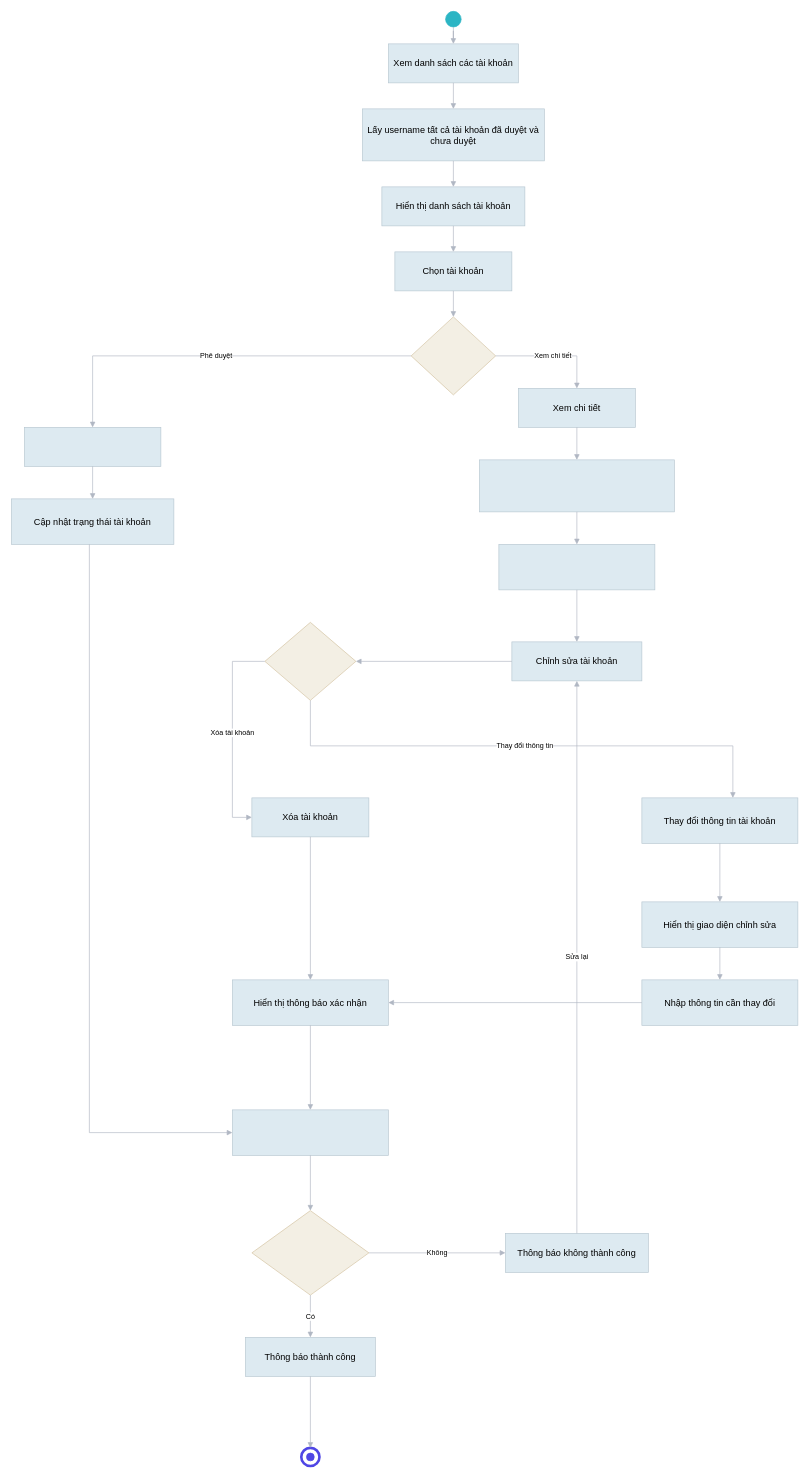
Image size: 809x1479. Some labels were removed from this diagram. Each missing label, with the box of its shape:
Chọn kiểu chỉnh sửa: (264, 622, 356, 700)
Chọn thao tác: (410, 316, 496, 395)
Cập nhật cơ sở dữ liệu: (232, 1109, 388, 1155)
Hiển thị thông tin chi tiết tài khoản: (498, 544, 655, 590)
Lấy thông tin chi tiết tài khoản dựa trên id: (479, 459, 674, 512)
Phê duyệt tài khoản: (24, 427, 161, 466)
Xử lý dữ liệu thành công?: (251, 1210, 369, 1295)
